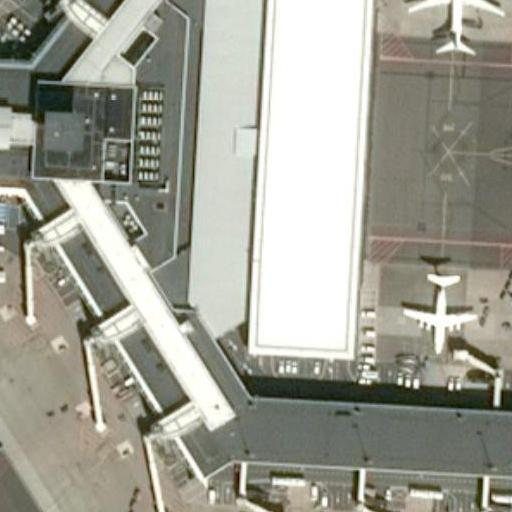Aircraft: (397, 262, 483, 356), (401, 0, 507, 57), (500, 245, 512, 367)
